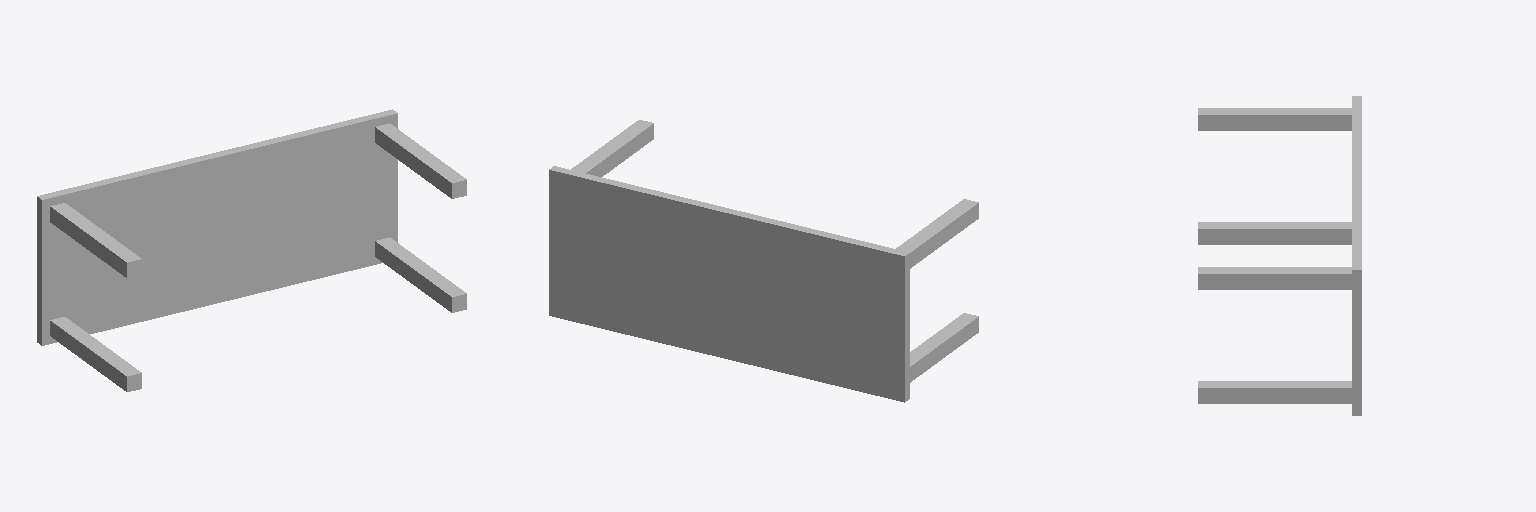
The model's file is random_table12.obj.
3 renders of one model, left to right at view 1: azimuth 30°, elevation 25°; view 2: azimuth 150°, elevation 25°; view 3: azimuth 270°, elevation 25°, orthographic.
Parts seen in each view (by area): view 1: Table_Cube.255, TableLeg0_Cube.256, TableLeg1_Cube.257, TableLeg2_Cube.258, TableLeg3_Cube.259; view 2: Table_Cube.255, TableLeg1_Cube.257, TableLeg3_Cube.259, TableLeg0_Cube.256; view 3: TableLeg0_Cube.256, TableLeg1_Cube.257, TableLeg2_Cube.258, TableLeg3_Cube.259, Table_Cube.255.
Boxes of the visible parts, box(x1,y1,x2,y2) form: Table_Cube.255: box(37, 109, 397, 345); TableLeg0_Cube.256: box(375, 124, 466, 198); TableLeg1_Cube.257: box(50, 203, 141, 278); TableLeg2_Cube.258: box(375, 237, 466, 312); TableLeg3_Cube.259: box(50, 317, 141, 391); Table_Cube.255: box(549, 166, 909, 402); TableLeg1_Cube.257: box(896, 199, 978, 268); TableLeg3_Cube.259: box(910, 313, 978, 382); TableLeg0_Cube.256: box(571, 120, 653, 176); TableLeg0_Cube.256: box(1198, 267, 1351, 289); TableLeg1_Cube.257: box(1198, 108, 1351, 130); TableLeg2_Cube.258: box(1198, 381, 1351, 403); TableLeg3_Cube.259: box(1198, 222, 1351, 244); Table_Cube.255: box(1352, 96, 1361, 415).
Size of the model in its own units: 13.2 by 5.18 by 5.29.